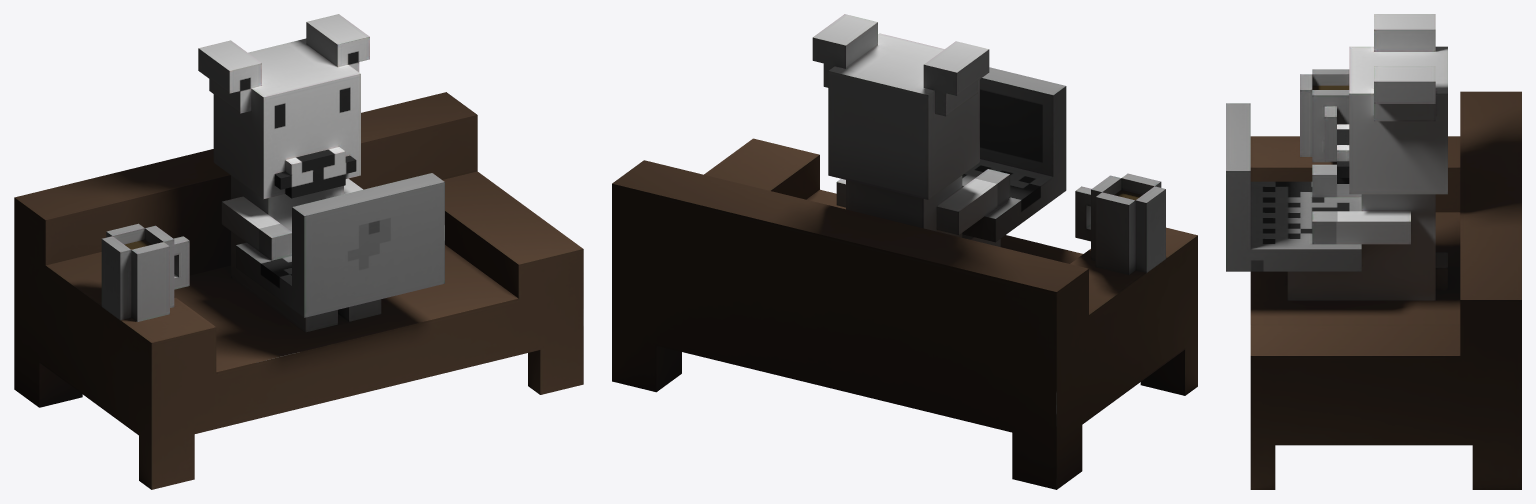
File: bear.glb
3 renders of one model, left to right at view 1: azimuth 30°, elevation 25°; view 2: azimuth 150°, elevation 25°; view 3: azimuth 270°, elevation 25°, orthographic. The views are drawn at different scales.
Visible parts, largest first — view 1: PolarBearCoder; view 2: PolarBearCoder; view 3: PolarBearCoder.
Part boxes in pixels (left/top/right/bottom): PolarBearCoder: left=14, top=14, right=583, bottom=489; PolarBearCoder: left=612, top=14, right=1197, bottom=489; PolarBearCoder: left=1226, top=14, right=1521, bottom=489.
Size of what is drawn, in the model's own units: 4 by 3 by 2.4.
Materials: 1 (1 with a texture image).
